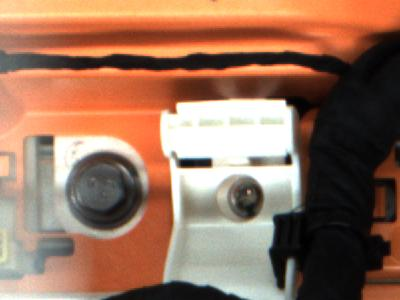nut_b: (61, 151, 143, 230)
